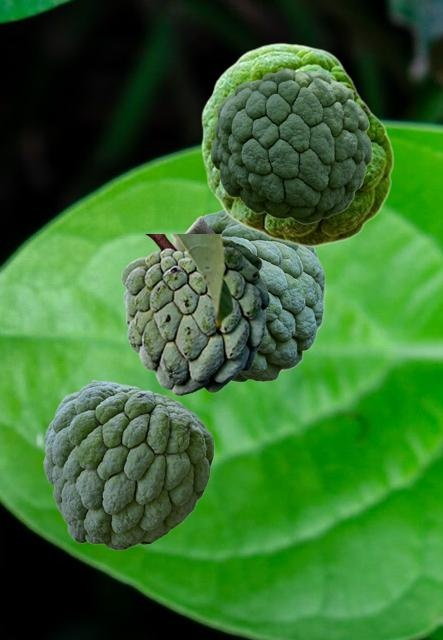atis: (201, 42, 393, 246), (120, 234, 345, 395), (43, 380, 213, 549), (210, 68, 371, 223), (184, 209, 324, 381)
